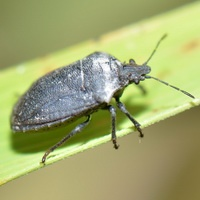insect: (11, 34, 194, 148)
